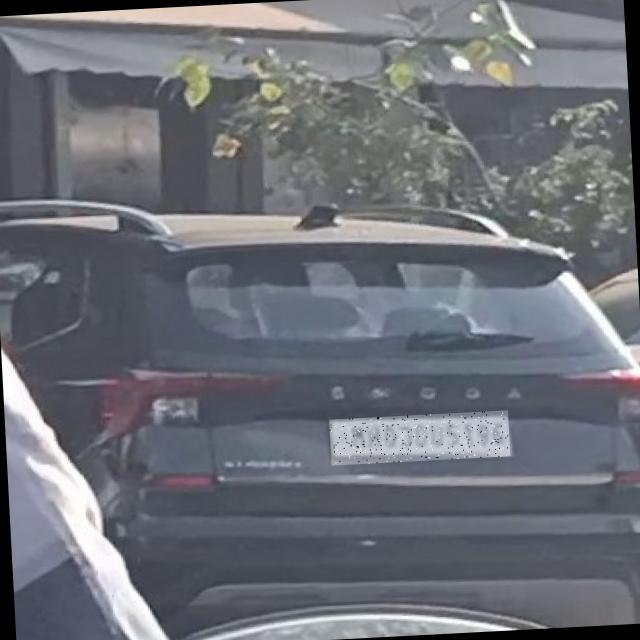Plate: (331, 412, 512, 467)
